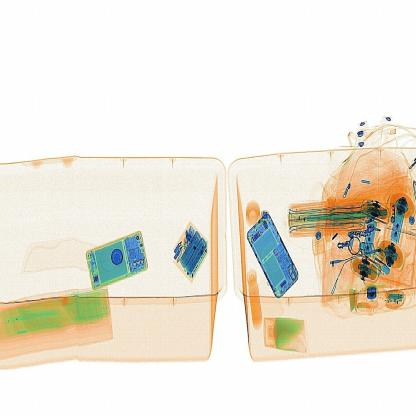pliers: (258, 201, 272, 224)
